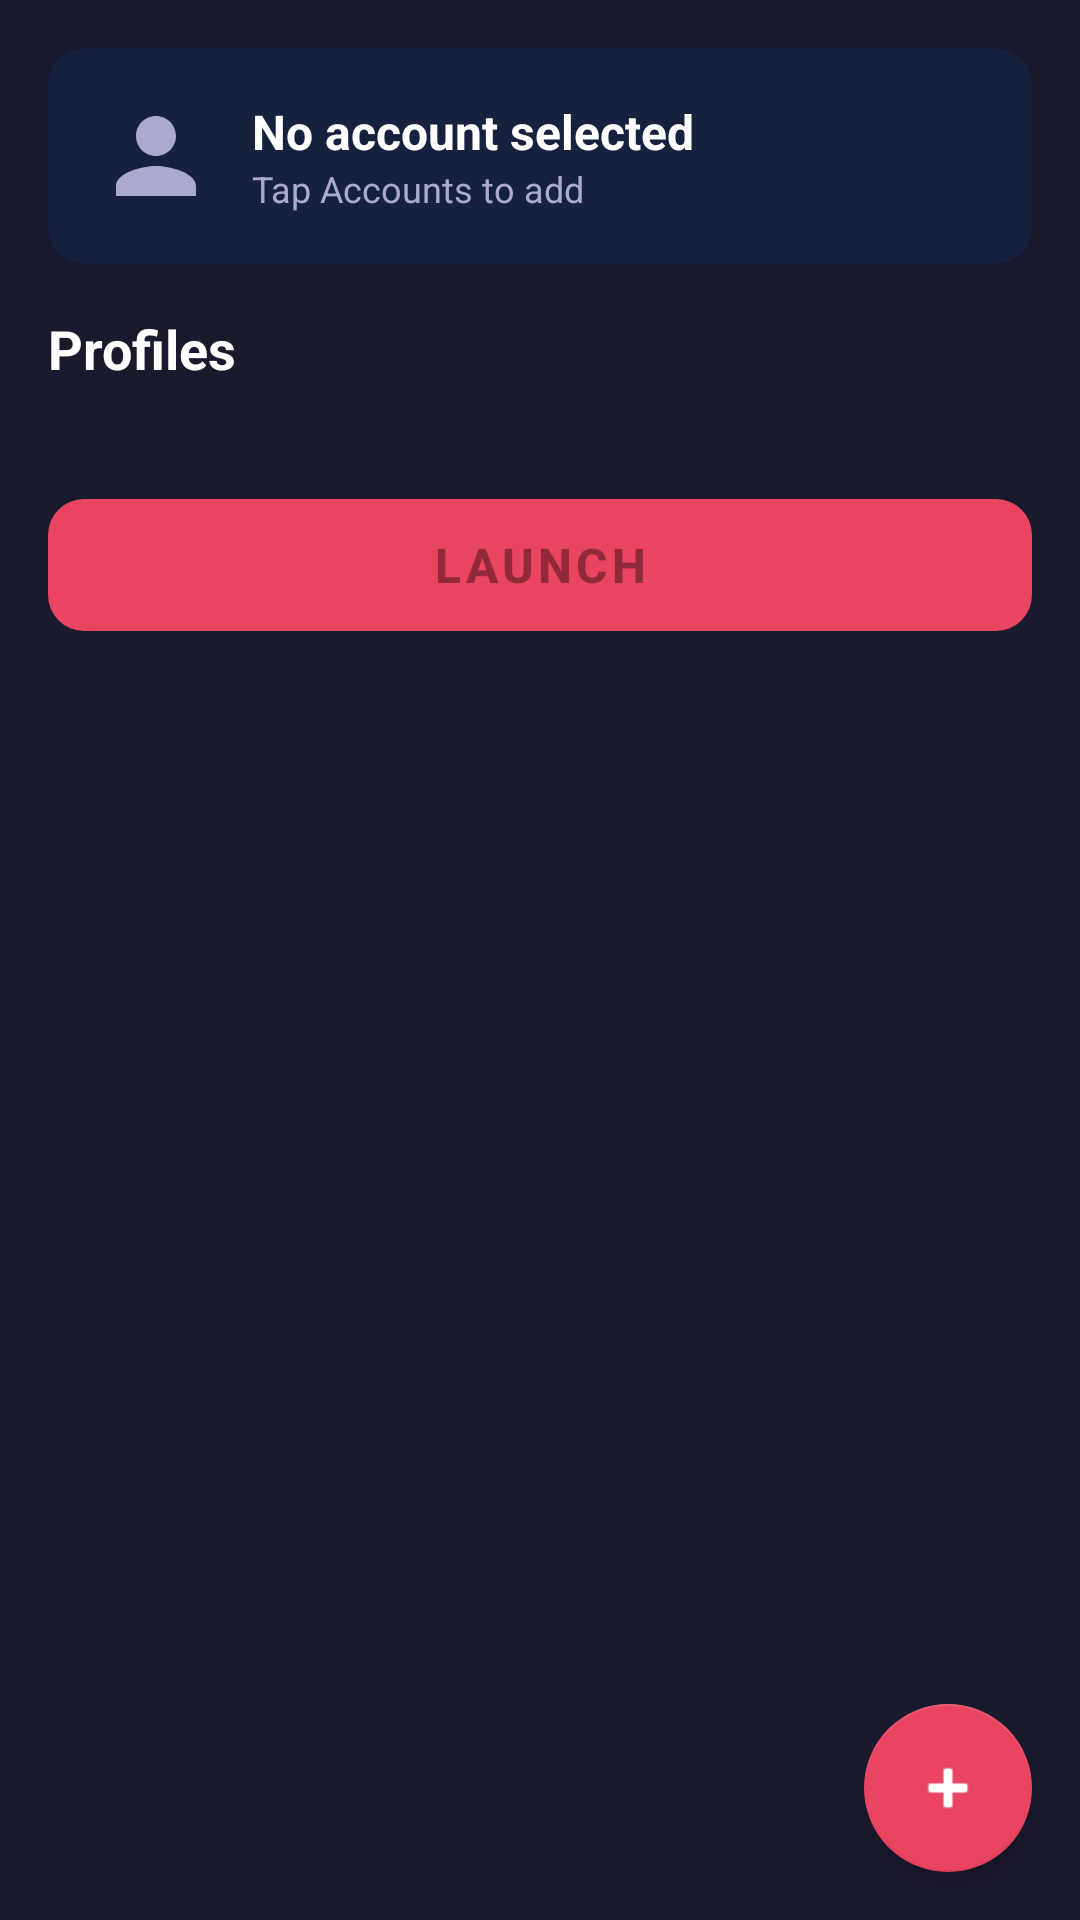

Icons on this 1080*1920 Android screen, each with its box as [left=x1, top=y1, right=x2, bottom=y2]:
add: [left=864, top=1704, right=1032, bottom=1872]
person: [left=116, top=116, right=196, bottom=196]
